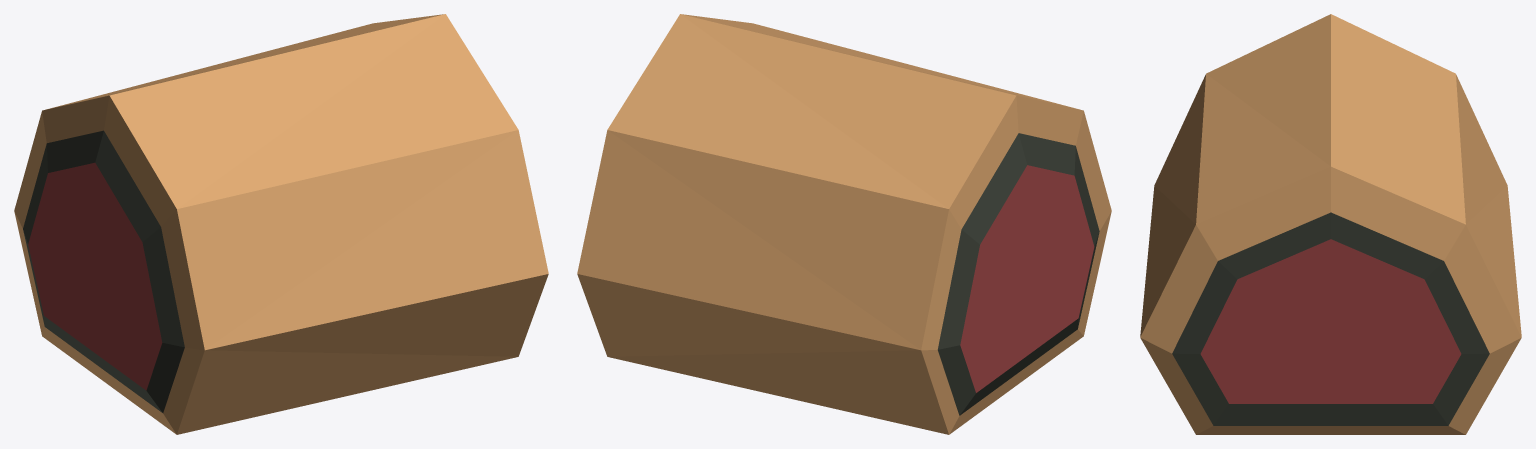
The model's file is beefWellingtonCutPieceBig.fbx.
3 renders of one model, left to right at view 1: azimuth 30°, elevation 25°; view 2: azimuth 150°, elevation 25°; view 3: azimuth 270°, elevation 25°, orthographic. The views are drawn at different scales.
Visible parts, largest first — view 1: beefWellingtonCutPieceBig; view 2: beefWellingtonCutPieceBig; view 3: beefWellingtonCutPieceBig.
Part boxes in pixels (x1,y1,x2,y2): beefWellingtonCutPieceBig: (14, 14, 548, 434); beefWellingtonCutPieceBig: (577, 14, 1111, 434); beefWellingtonCutPieceBig: (1140, 14, 1521, 434).
Size of the model in its own units: 14.73 by 11.33 by 14.57.
1 material, 1 textured.
